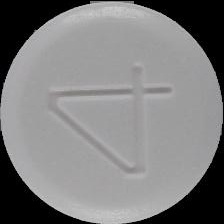68788-9736: (0, 0, 224, 224)
